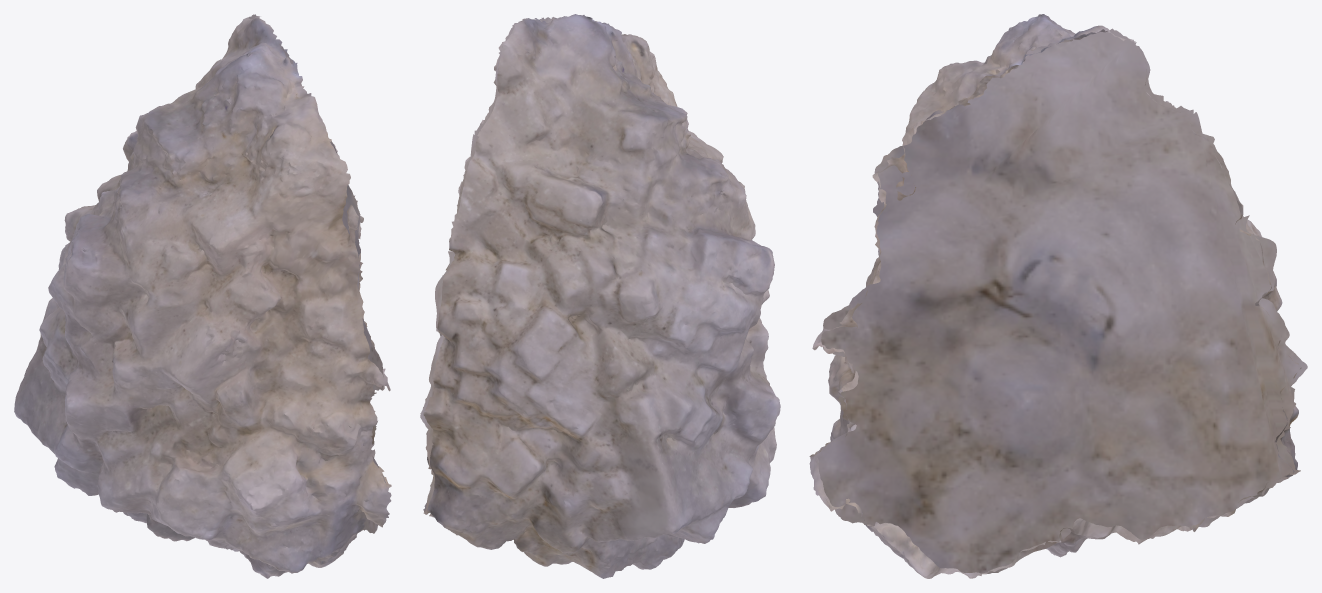
Rendered from halite_part2.glb.
3 views of the same model, side by side, from view 1: azimuth 30°, elevation 25°; view 2: azimuth 150°, elevation 25°; view 3: azimuth 270°, elevation 25° (orthographic). The views are drawn at different scales.
Visible parts, largest first — view 1: Object_2.002; view 2: Object_2.002; view 3: Object_2.002.
Part boxes in pixels (bbox=[...]): Object_2.002: bbox=[14, 14, 391, 578]; Object_2.002: bbox=[420, 14, 780, 578]; Object_2.002: bbox=[809, 14, 1307, 578].
Bounding box in the file's own units: 19.56 × 41.52 × 33.63.
Materials: 2 (2 with a texture image).
